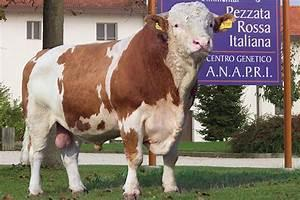cow: (19, 1, 236, 199)
